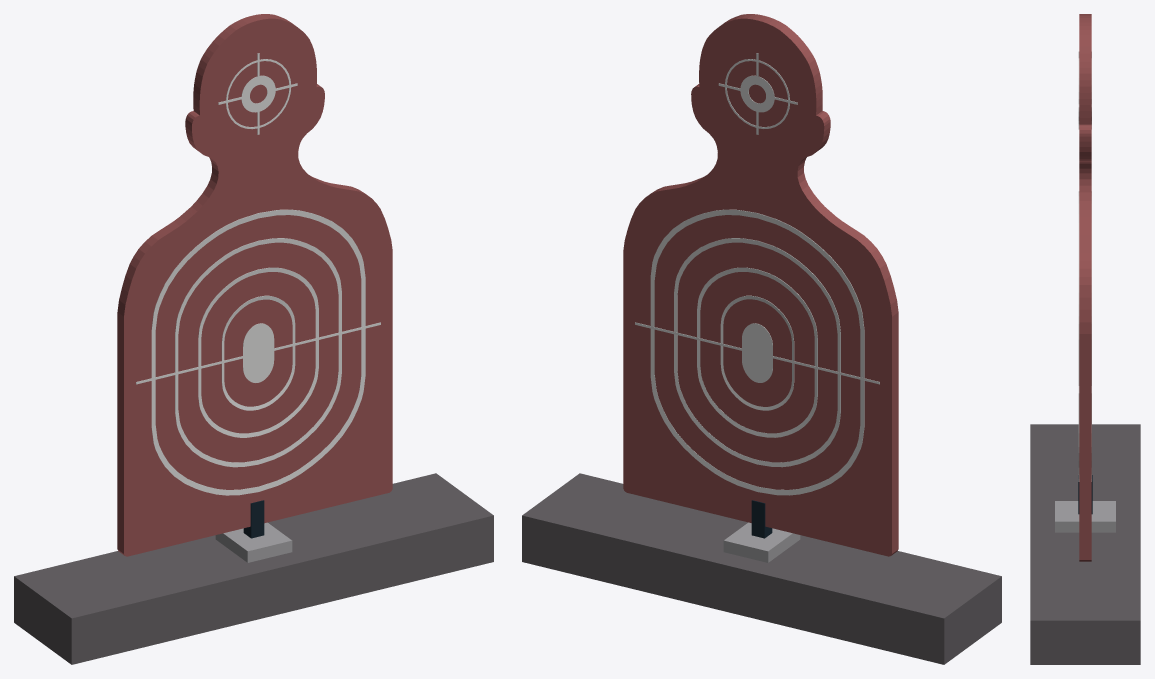
Rendered from Target.fbx.
3 renders of one model, left to right at view 1: azimuth 30°, elevation 25°; view 2: azimuth 150°, elevation 25°; view 3: azimuth 270°, elevation 25°, orthographic. The views are drawn at different scales.
Visible parts, largest first — view 1: Target; view 2: Target; view 3: Target.
Part boxes in pixels (x1,y1,x2,y2): Target: [14, 14, 493, 664]; Target: [522, 14, 1001, 664]; Target: [1030, 14, 1140, 664].
Size of the model in its own units: 380 by 494 by 90.
